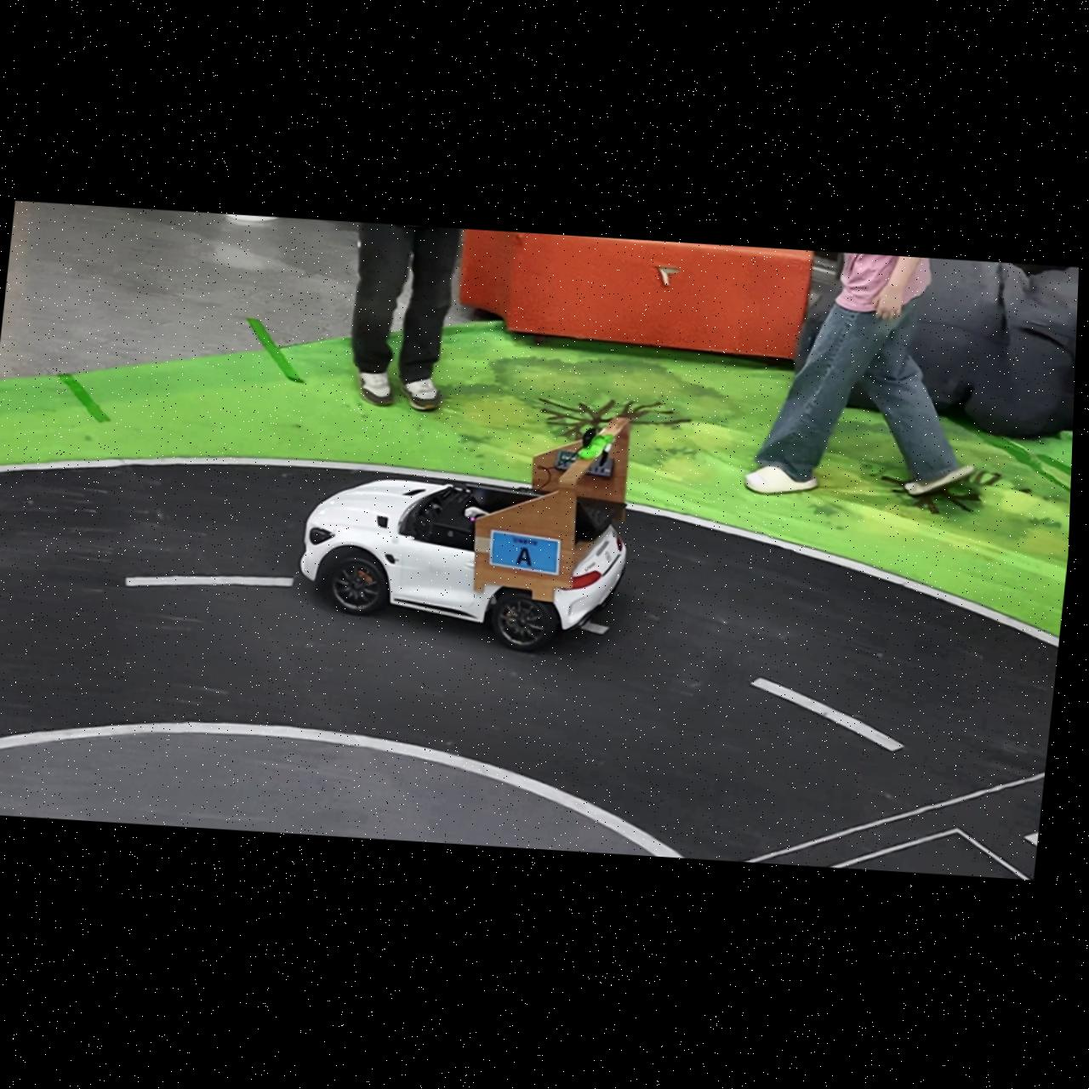broken_line: (752, 677, 903, 751), (125, 576, 293, 587), (581, 621, 609, 634), (1026, 832, 1038, 846)
